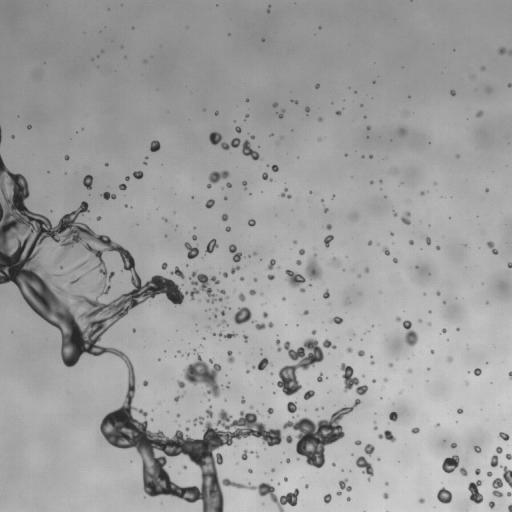droplet: (284, 399, 360, 468), (276, 338, 323, 395), (177, 350, 221, 397), (285, 254, 321, 287), (492, 465, 511, 497), (468, 480, 482, 503), (442, 455, 459, 473), (234, 307, 251, 324), (252, 357, 271, 370), (437, 487, 452, 503), (184, 242, 198, 258), (378, 430, 395, 442), (205, 239, 218, 253), (170, 267, 184, 279), (286, 401, 298, 413), (339, 479, 351, 491), (83, 174, 92, 189), (322, 339, 336, 348), (364, 444, 374, 456), (150, 140, 160, 151), (401, 212, 410, 224), (324, 235, 333, 247), (330, 316, 343, 324), (280, 188, 290, 198), (303, 390, 314, 399), (227, 350, 234, 363), (498, 432, 509, 440), (205, 199, 214, 208), (397, 127, 407, 135), (133, 171, 143, 179), (267, 259, 275, 269), (389, 412, 397, 421), (323, 494, 331, 503), (241, 450, 248, 460), (332, 257, 340, 265), (459, 467, 467, 475), (382, 246, 389, 255), (230, 266, 239, 273), (238, 293, 245, 301), (271, 164, 278, 171), (221, 214, 228, 221), (248, 219, 255, 226), (474, 368, 481, 375), (174, 395, 181, 402), (323, 290, 329, 298), (411, 427, 419, 433), (473, 446, 481, 452), (218, 320, 227, 325), (119, 184, 126, 190), (161, 262, 167, 269), (267, 274, 274, 280), (357, 350, 364, 356), (317, 374, 322, 382), (476, 111, 482, 117), (351, 213, 357, 219), (249, 289, 255, 295), (505, 453, 511, 459), (268, 407, 273, 414), (489, 501, 494, 508), (235, 126, 240, 132), (299, 249, 304, 255), (143, 380, 148, 386), (457, 408, 463, 413), (355, 440, 361, 445), (475, 468, 480, 474), (426, 237, 430, 244), (243, 334, 247, 341), (450, 90, 455, 95), (226, 182, 231, 187), (326, 224, 331, 229), (225, 226, 230, 231), (296, 260, 301, 265), (222, 272, 227, 277), (262, 312, 267, 317), (441, 328, 446, 333), (347, 347, 352, 352), (451, 443, 456, 448), (383, 493, 388, 498), (419, 498, 424, 503), (305, 107, 309, 113), (242, 181, 246, 187), (219, 290, 225, 294), (508, 504, 511, 511), (336, 111, 341, 115), (27, 124, 31, 129), (192, 235, 196, 240), (507, 262, 511, 267), (364, 268, 369, 272), (300, 288, 305, 292), (303, 310, 308, 314), (447, 357, 452, 361), (182, 465, 187, 469), (487, 472, 492, 476), (292, 100, 298, 103), (315, 84, 319, 88), (273, 102, 277, 106), (125, 176, 129, 180), (420, 191, 424, 195), (368, 241, 372, 245), (409, 240, 413, 244), (393, 258, 397, 262), (436, 291, 440, 295), (396, 317, 400, 321), (312, 330, 316, 334), (430, 349, 434, 353), (389, 363, 393, 367), (249, 405, 253, 409), (185, 427, 189, 431), (373, 426, 377, 430), (248, 469, 252, 473), (507, 492, 511, 496), (221, 310, 224, 315), (241, 398, 244, 403), (508, 83, 511, 87), (215, 111, 218, 115), (318, 118, 322, 121), (366, 126, 370, 129), (65, 155, 68, 159), (324, 208, 327, 212), (394, 212, 397, 216), (97, 216, 100, 220), (163, 218, 167, 221), (286, 458, 289, 462), (347, 497, 350, 501), (55, 274, 60, 276), (481, 67, 484, 70), (251, 135, 254, 138), (436, 246, 439, 249), (253, 252, 256, 255), (240, 277, 243, 280), (253, 278, 256, 281), (371, 361, 374, 364), (408, 369, 411, 372), (176, 414, 179, 417), (436, 423, 439, 426), (332, 463, 335, 466), (271, 468, 274, 471), (284, 477, 287, 480), (337, 492, 340, 495), (267, 10, 270, 12), (262, 38, 264, 41), (246, 114, 248, 117), (456, 155, 459, 157), (379, 180, 382, 182), (485, 189, 488, 191), (224, 197, 227, 199), (294, 240, 296, 243), (419, 319, 421, 322), (207, 326, 210, 328), (132, 329, 135, 331), (246, 370, 249, 372), (384, 378, 386, 381), (372, 380, 375, 382), (250, 451, 253, 453), (256, 454, 258, 457), (385, 482, 388, 484), (305, 485, 308, 487), (268, 6, 270, 8), (246, 99, 248, 101), (12, 135, 14, 137), (105, 163, 107, 165), (392, 170, 394, 172), (358, 274, 360, 276), (226, 296, 228, 298), (443, 301, 445, 303), (428, 322, 430, 324), (178, 350, 180, 352), (399, 391, 401, 393), (315, 408, 317, 410)
ligament: (0, 155, 297, 511), (209, 132, 259, 160), (340, 363, 367, 395), (356, 456, 373, 480), (207, 170, 229, 188), (403, 320, 417, 346), (490, 446, 502, 467), (229, 244, 242, 262), (253, 320, 273, 330), (487, 241, 498, 254), (70, 275, 84, 284), (218, 332, 236, 339), (101, 192, 116, 199), (498, 47, 511, 55), (262, 172, 272, 181), (275, 339, 281, 351), (75, 262, 85, 269), (278, 109, 284, 118), (213, 308, 217, 317), (143, 157, 147, 164), (508, 371, 511, 379), (0, 127, 1, 141)
